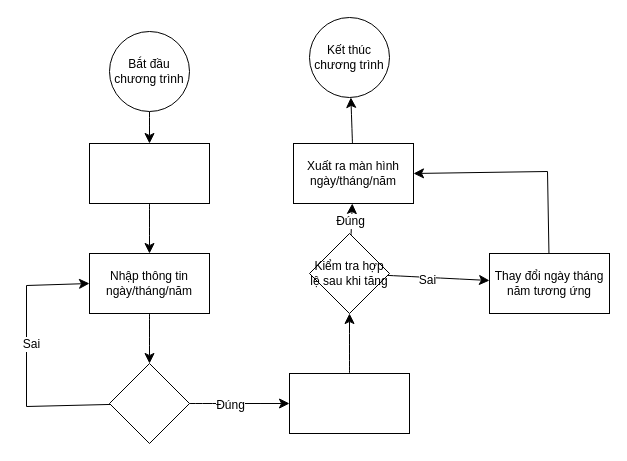
Some shapes in this 627 by 461 pixel diagram are drawn without their labels. Each missing label, with the centre of its shape:
Khởi tạo lớp Time, với thuộc tính và phương thức: the point at 149,173
Kiểm tra tính hợp lệ: the point at 149,403
Tăng ngày lên một: the point at 349,403
